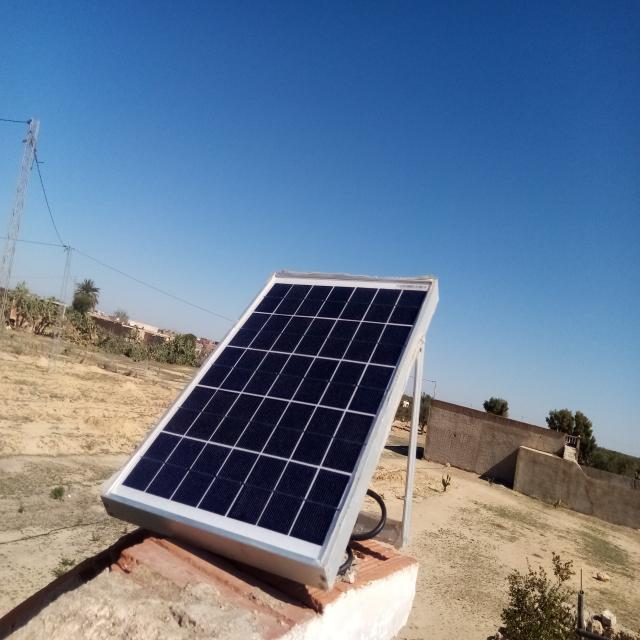no faulty: (103, 273, 435, 566)
